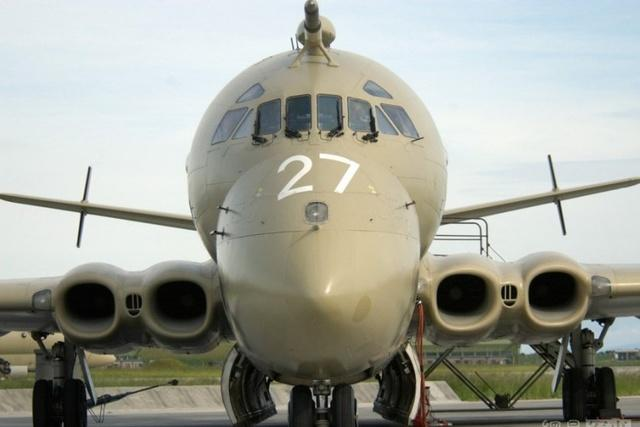airplane: (1, 1, 640, 412)
